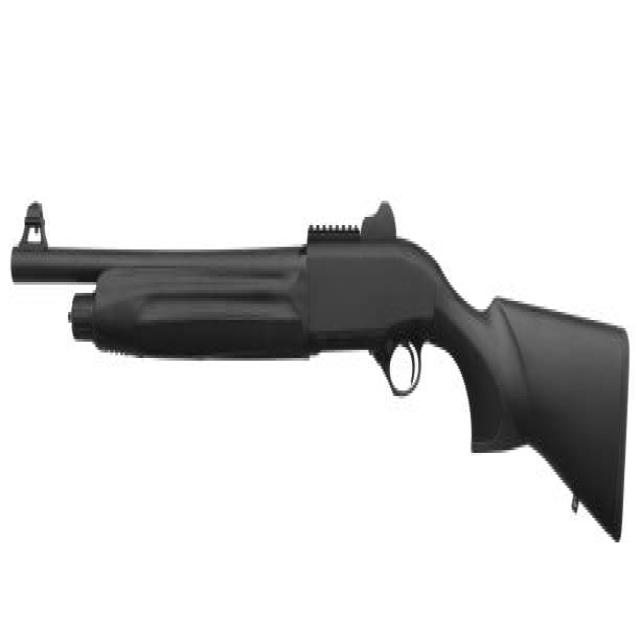rifle: (10, 193, 635, 557)
